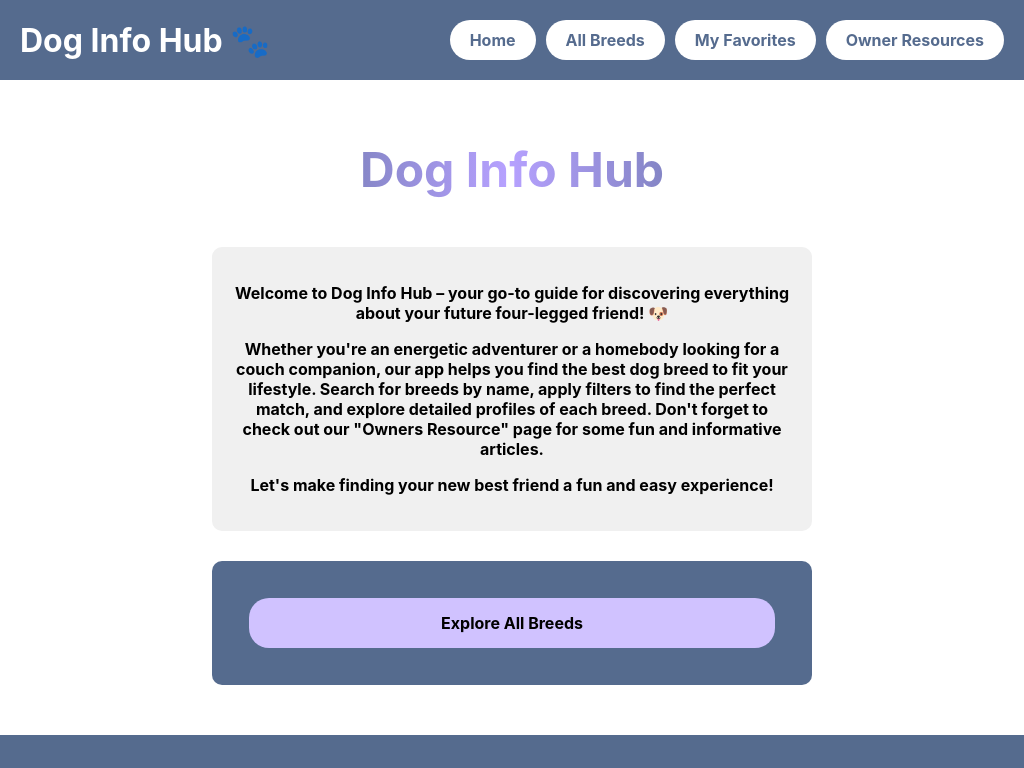
Test case: All Breeds Page › should include articles for owners
The width and height of the screenshot is (1024, 768).
What coordinates should you click on to do the following:
click the link with class "resources"
I would click on:
 (915, 40)
Its box is left=826, top=20, right=1004, bottom=60.
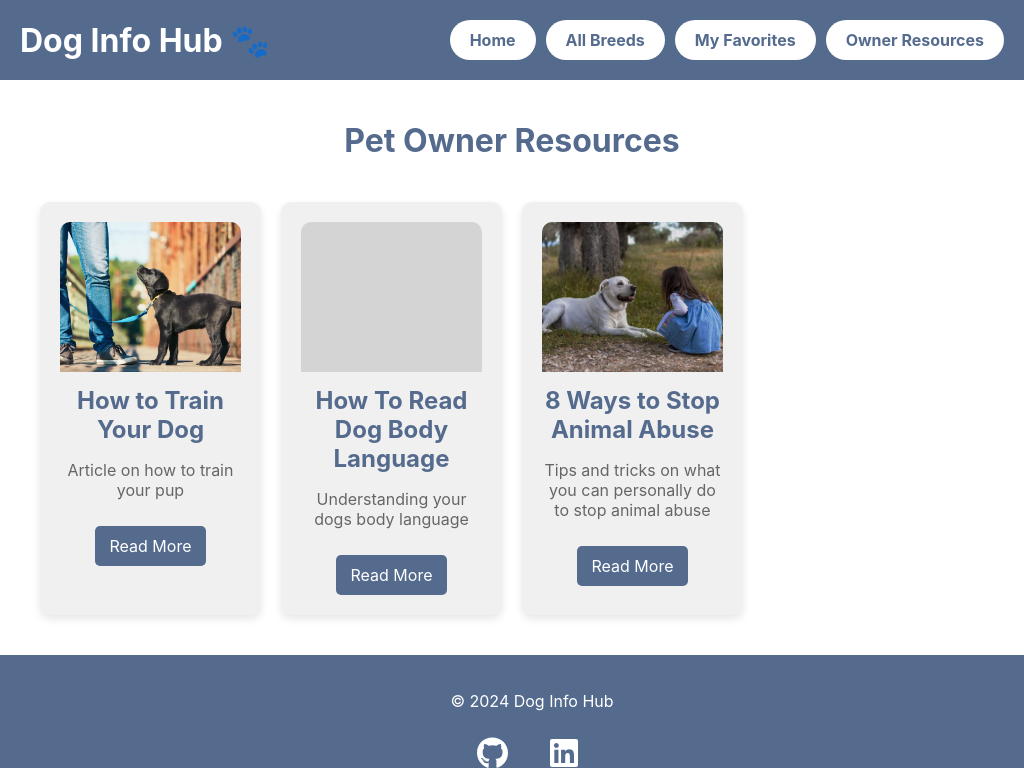
Expected: the element with class "resources-grid" is shown, left=40, top=202, right=743, bottom=615
Expected: the heading "How to Train Your Dog" is shown, left=77, top=386, right=224, bottom=444
Expected: the heading "How To Read Dog Body Language" is shown, left=316, top=386, right=468, bottom=473
